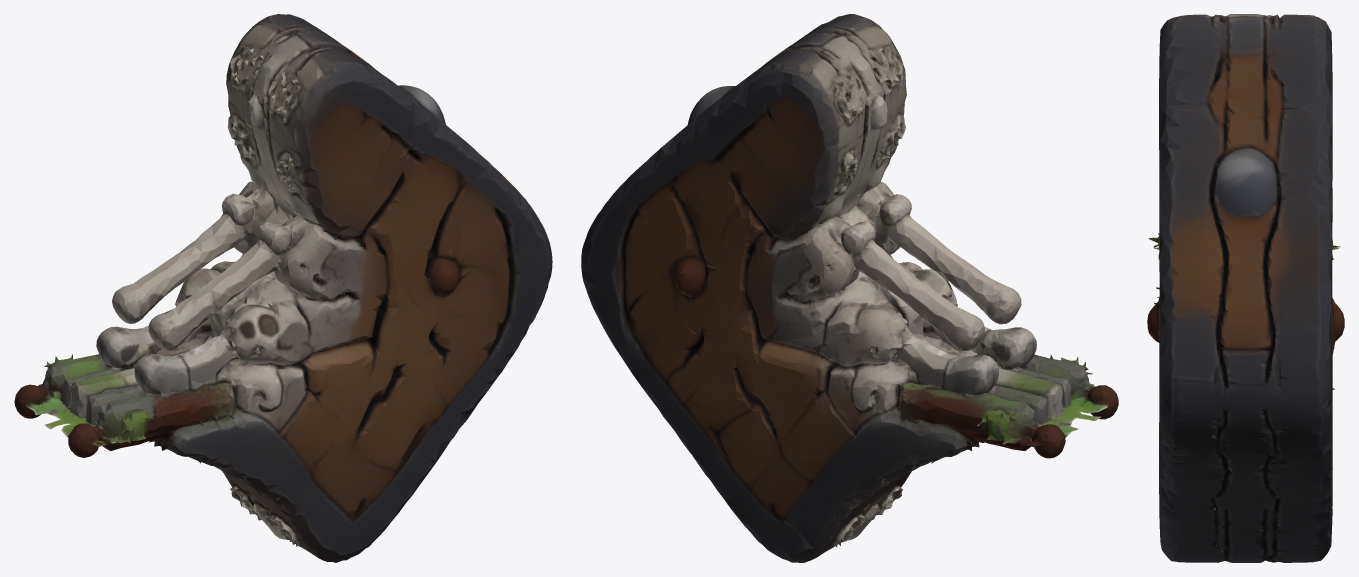
The model's file is rodin_Lab_Bones_raw.glb.
The picture shows the model from 3 angles, left to right: view 1: azimuth 30°, elevation 25°; view 2: azimuth 150°, elevation 25°; view 3: azimuth 270°, elevation 25°; orthographic projection. The views are drawn at different scales.
Parts seen in each view (by area): view 1: model; view 2: model; view 3: model.
Boxes of the visible parts, <box> form: model: <box>14,14,552,562</box>; model: <box>581,14,1118,562</box>; model: <box>1147,14,1344,562</box>.
Bounding box in the file's own units: 1.89 × 1.89 × 0.6272.
1 material, 1 textured.
